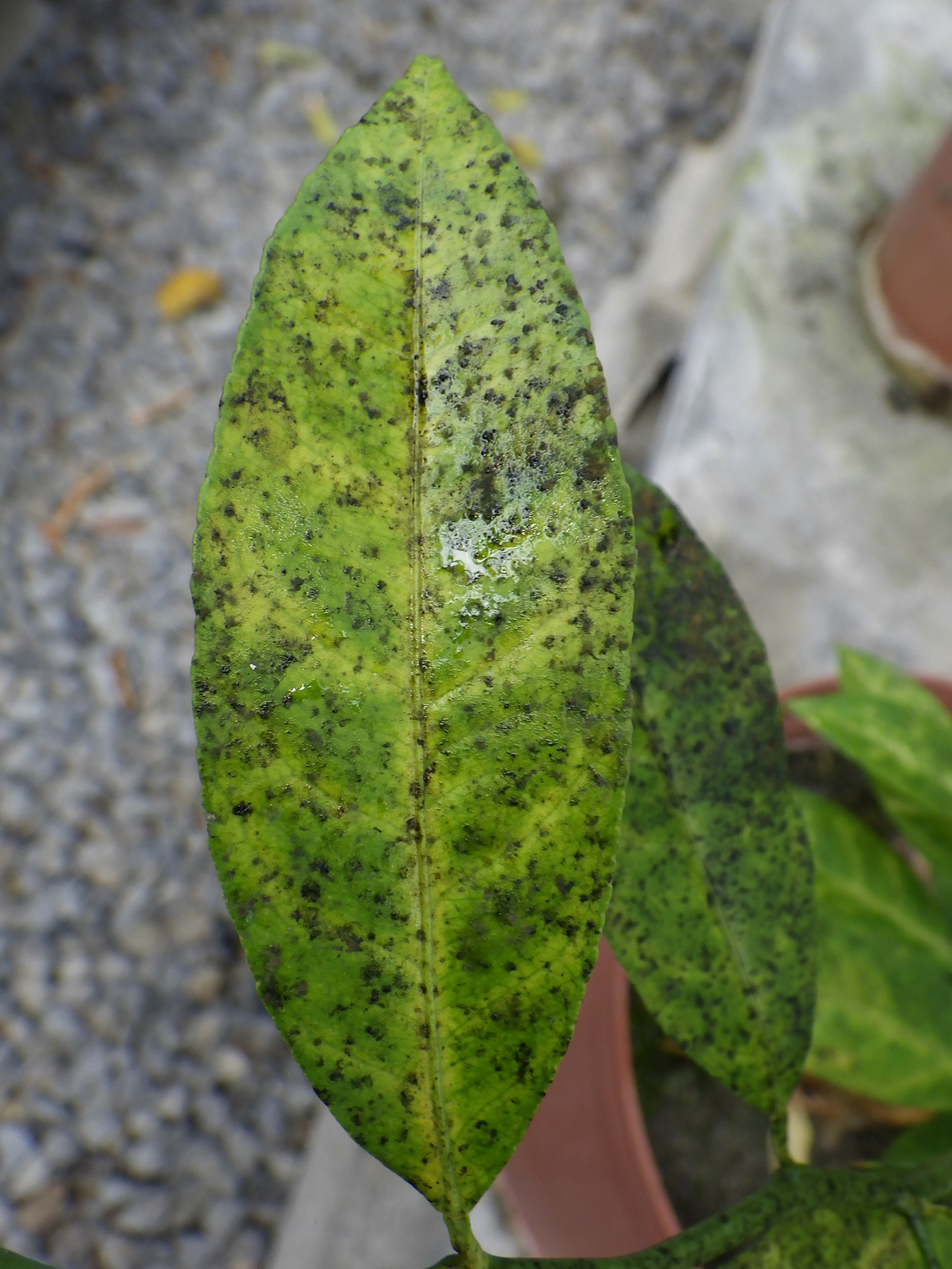Sooty_Mold: (193, 57, 633, 1265)
